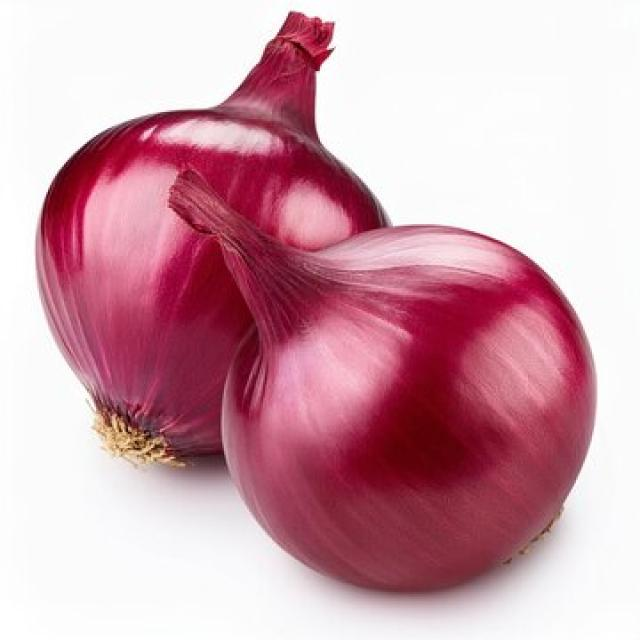Onion: (165, 165, 598, 592), (34, 9, 391, 467)
